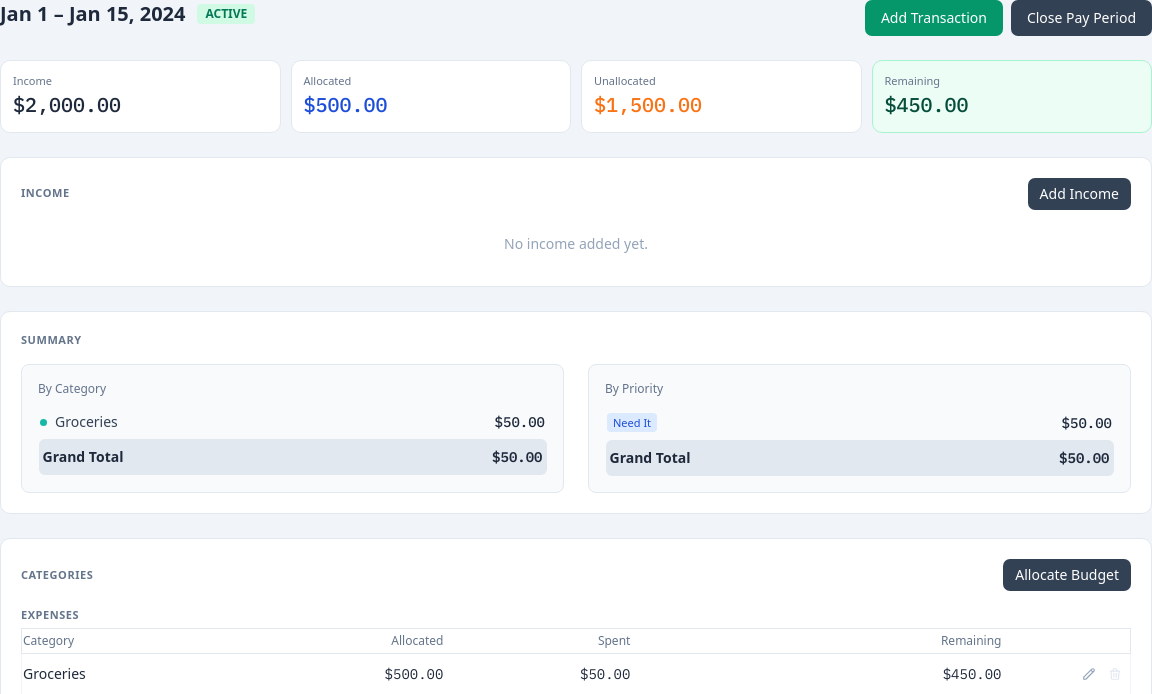
Test case: PayPeriodDetailPage › dismisses error message
Click the button "Close Pay Period" at (1081, 18), box [1011,0,1151,36]
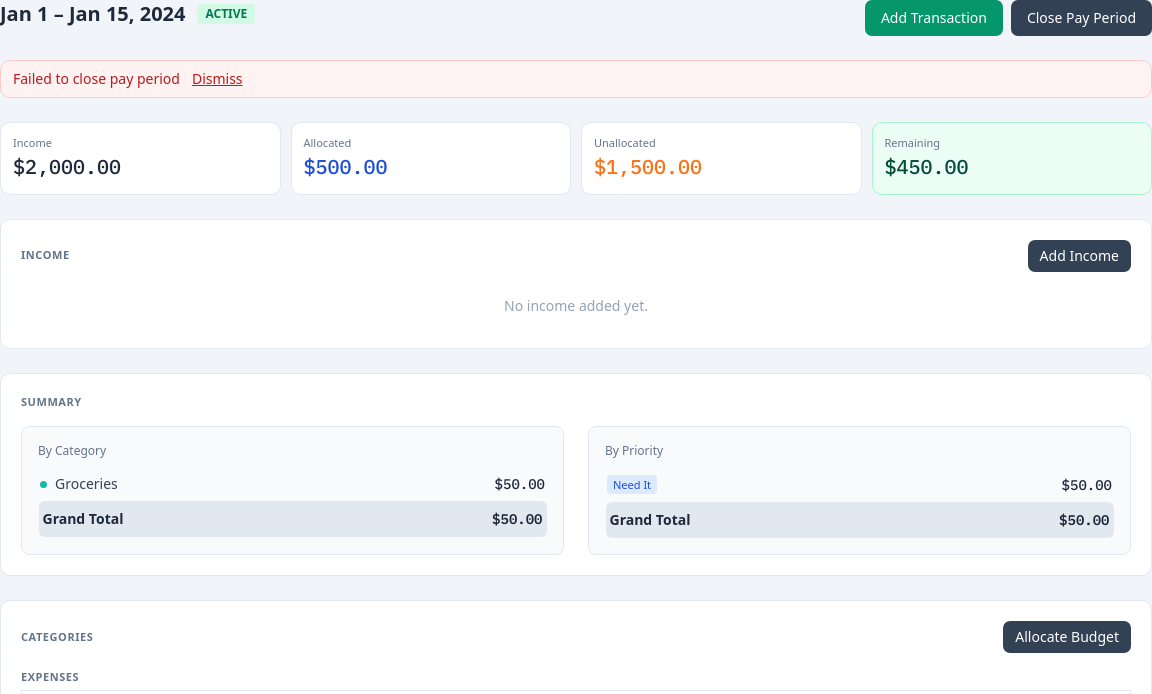
Expected: the text "Failed to close pay period" is shown, [13,69,180,88]
Click the button "Dismiss" at (217, 79), box [192,69,243,89]
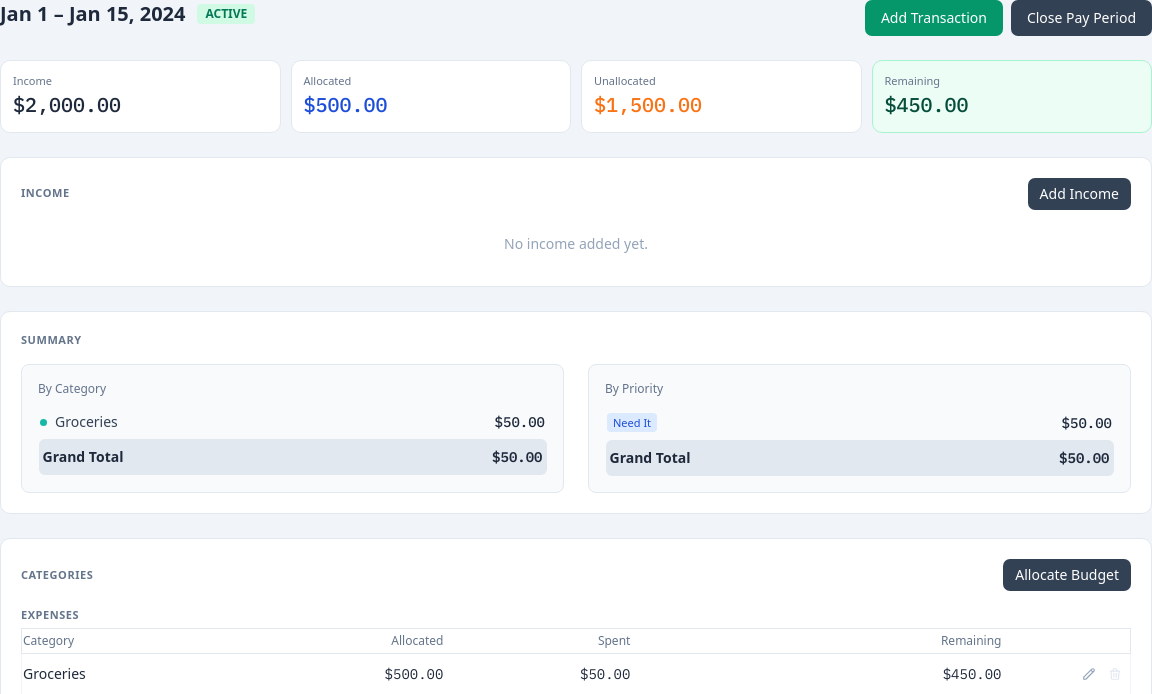
Expected: the text "Failed to close pay period" is gone
